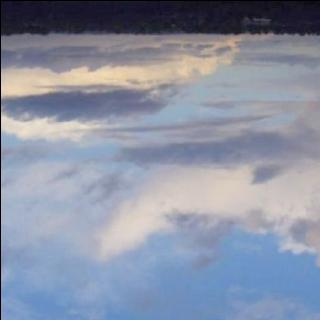Stratocumulus: (0, 44, 320, 320)
